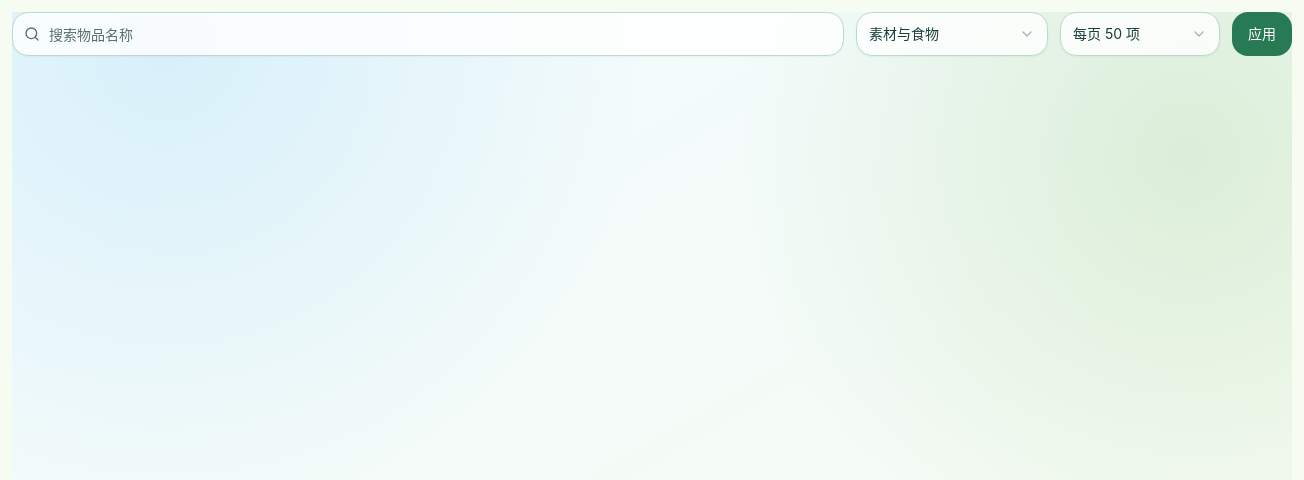
Test: item inventory › uses equally tall shadcn controls without visible field labels
What coordinates should you click on to do the following:
click the dropdown named "每页数量"
I would click on:
 (1140, 34)
Its box is 1060,12 -> 1220,56.
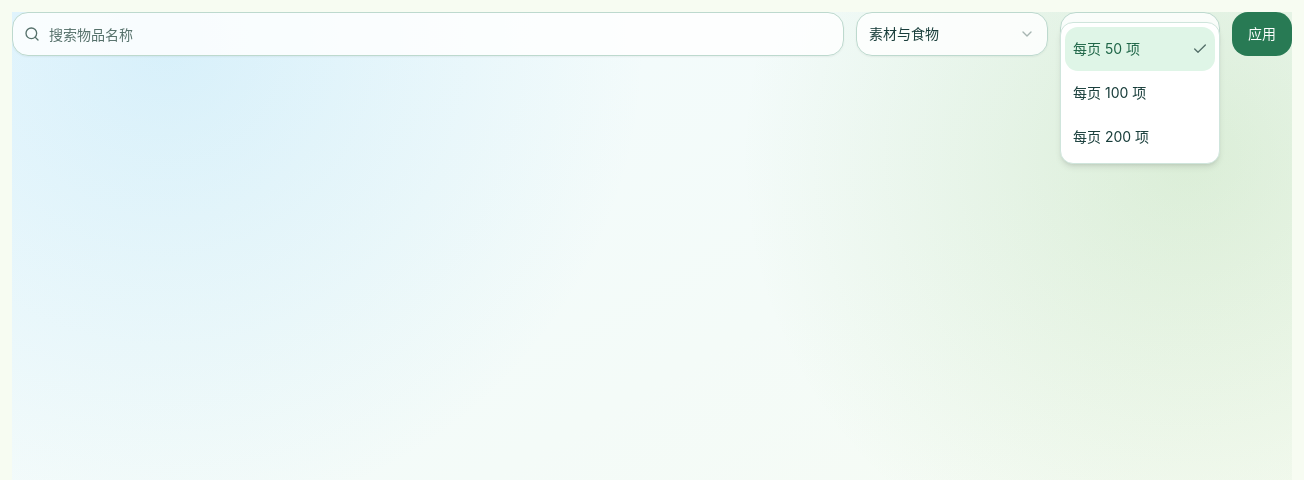
Expected: the option "每页 50 项" is shown, 1065,27 -> 1215,71
Expected: the option "每页 100 项" is shown, 1073,84 -> 1146,101
Expected: the option "每页 200 项" is shown, 1073,128 -> 1149,145
